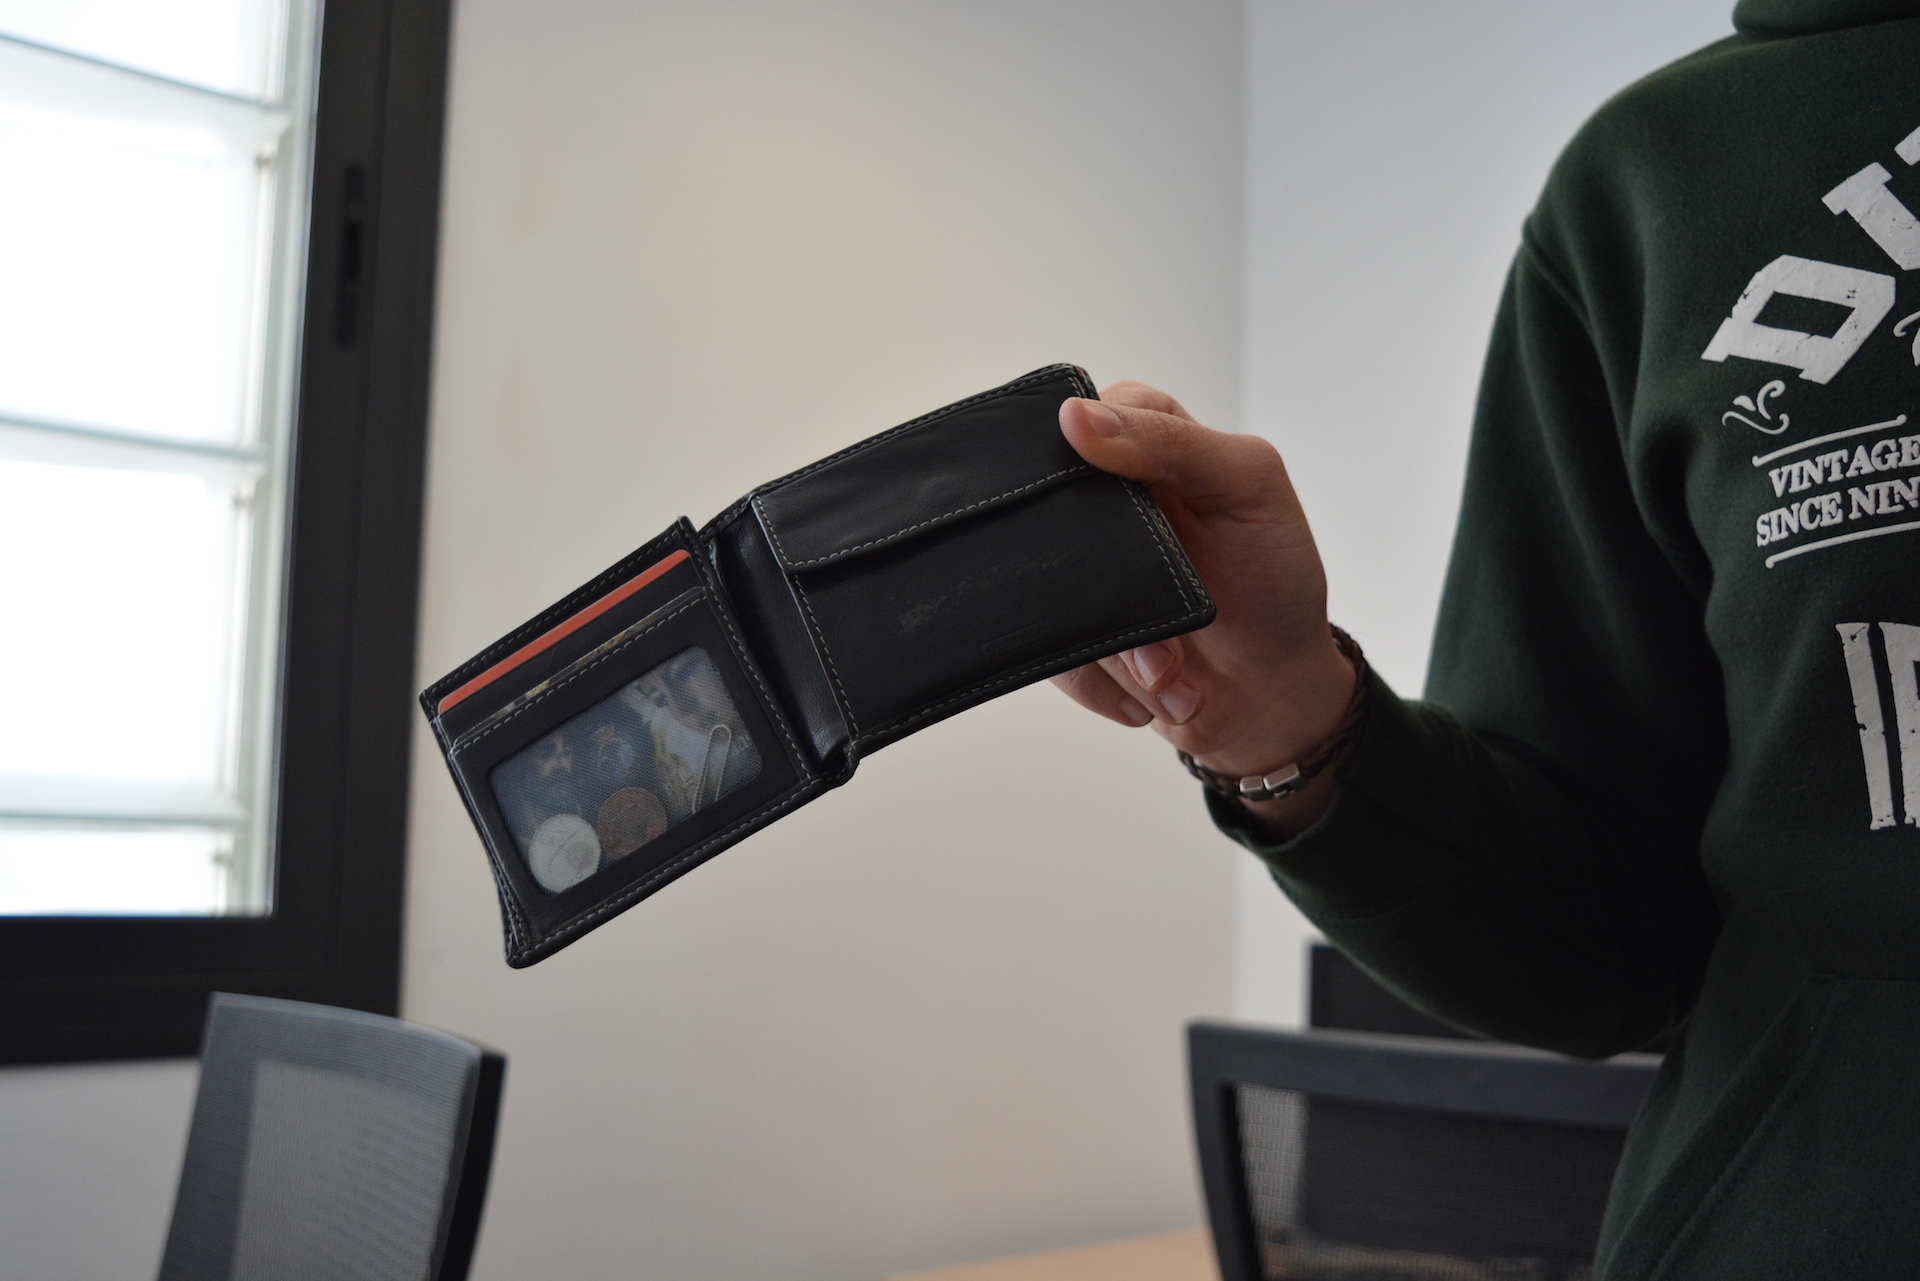monedero: (416, 357, 1219, 974)
